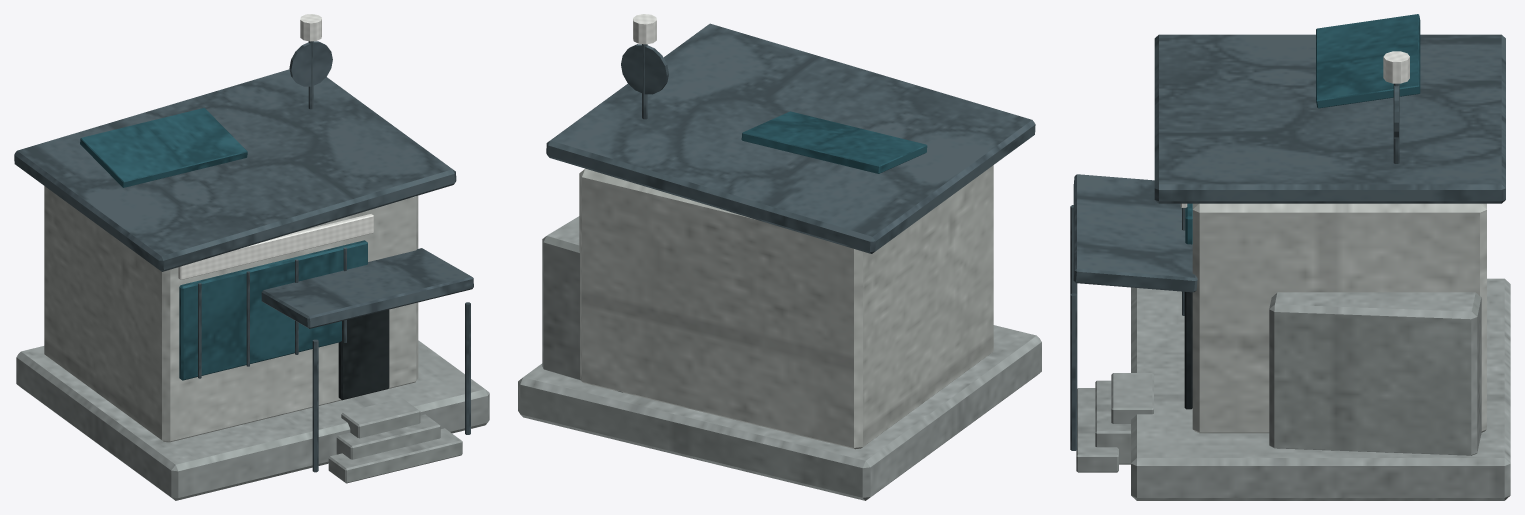
File: edificio-house-e5-DB1YeBT6.glb
3 renders of one model, left to right at view 1: azimuth 30°, elevation 25°; view 2: azimuth 150°, elevation 25°; view 3: azimuth 270°, elevation 25°, orthographic. The views are drawn at different scales.
Parts seen in each view (by area): view 1: casa_e5_detalles, casa_e5_envolvente, casa_e5_team_color; view 2: casa_e5_envolvente, casa_e5_detalles, casa_e5_team_color; view 3: casa_e5_envolvente, casa_e5_detalles, casa_e5_team_color.
Part boxes in pixels (x1,y1,x2,y2): casa_e5_detalles: (14,41,473,472); casa_e5_envolvente: (16,186,489,500); casa_e5_team_color: (178,14,373,279); casa_e5_envolvente: (518,165,1041,500); casa_e5_detalles: (546,23,1035,253); casa_e5_team_color: (633,14,656,44); casa_e5_envolvente: (1076,203,1510,500); casa_e5_detalles: (1070,14,1505,450); casa_e5_team_color: (1180,51,1409,207).
Bounding box in the file's own units: 46.5 × 47.25 × 46.38.
Materials: 3 (3 with a texture image).
